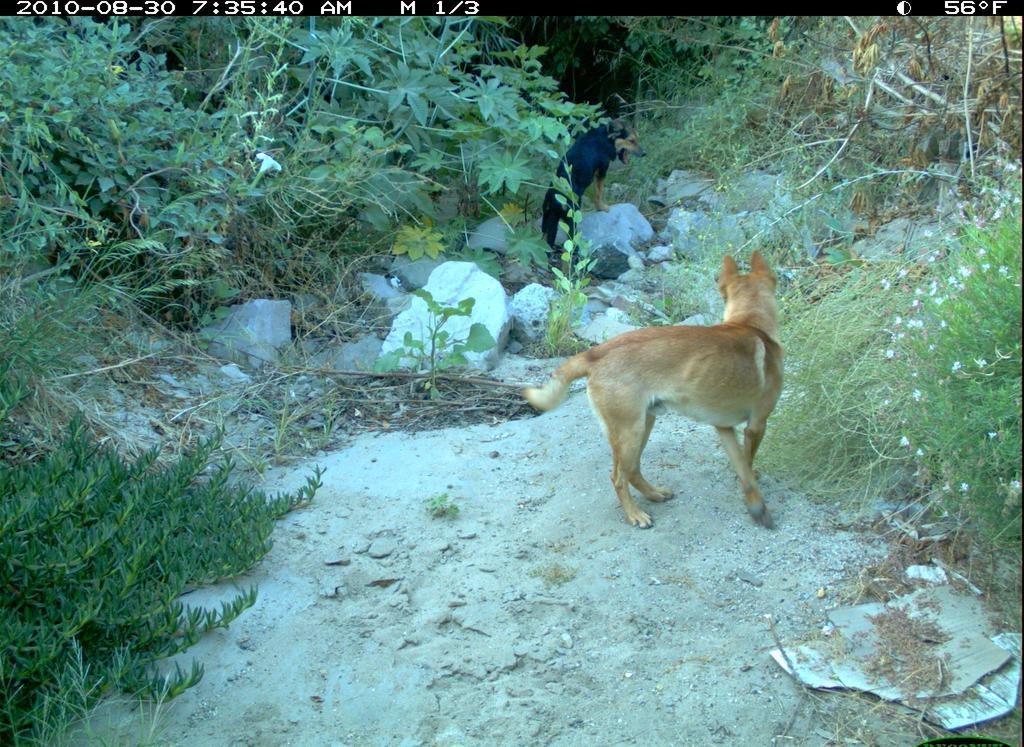dog: (523, 251, 824, 541), (545, 114, 649, 272)
